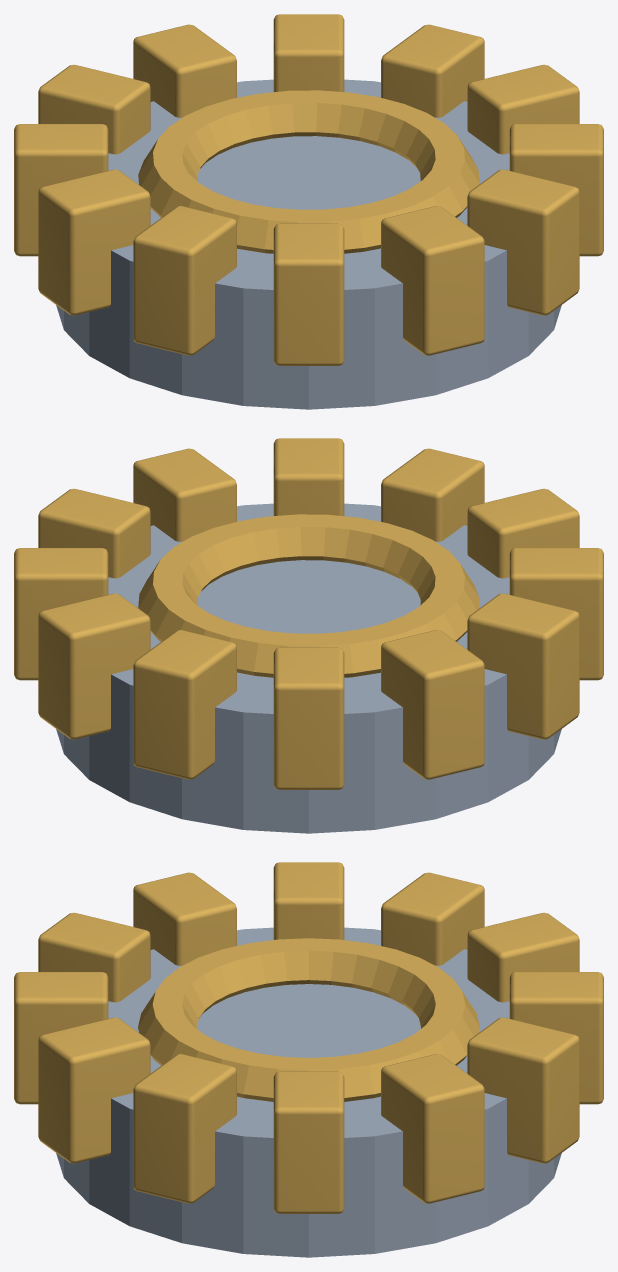
The model's file is switzerland-gear-ornament.glb.
3 renders of one model, top to bottom at view 1: azimuth 30°, elevation 25°; view 2: azimuth 150°, elevation 25°; view 3: azimuth 270°, elevation 25°, orthographic.
Visible parts, largest first — view 1: はぐるまの だい, まんなかの わ, はぐるまの は.007, はぐるまの は.009, はぐるまの は.006, はぐるまの は.010, はぐるまの は.008, はぐるまの は.005, はぐるまの は.011, はぐるまの は.001, はぐるまの は.003, はぐるまの は (+2 smaller); view 2: はぐるまの だい, まんなかの わ, はぐるまの は.003, はぐるまの は.005, はぐるまの は.002, はぐるまの は.006, はぐるまの は.004, はぐるまの は.001, はぐるまの は.007, はぐるまの は.011, はぐるまの は.009, はぐるまの は (+2 smaller); view 3: はぐるまの だい, まんなかの わ, はぐるまの は.001, はぐるまの は.011, はぐるまの は.002, はぐるまの は.010, はぐるまの は, はぐるまの は.003, はぐるまの は.009, はぐるまの は.005, はぐるまの は.007, はぐるまの は.004 (+2 smaller).
Part boxes in pixels (left/top/right/bottom): はぐるまの だい: left=56, top=79, right=561, bottom=409; まんなかの わ: left=138, top=90, right=479, bottom=253; はぐるまの は.007: left=133, top=206, right=236, bottom=355; はぐるまの は.009: left=381, top=206, right=484, bottom=355; はぐるまの は.006: left=38, top=169, right=150, bottom=315; はぐるまの は.010: left=467, top=169, right=579, bottom=315; はぐるまの は.008: left=273, top=223, right=344, bottom=365; はぐるまの は.005: left=14, top=124, right=108, bottom=256; はぐるまの は.011: left=509, top=124, right=603, bottom=256; はぐるまの は.001: left=381, top=24, right=484, bottom=117; はぐるまの は.003: left=133, top=24, right=236, bottom=117; はぐるまの は: left=467, top=64, right=579, bottom=154; はぐるまの だい: left=56, top=503, right=561, bottom=833; まんなかの わ: left=138, top=514, right=479, bottom=677; はぐるまの は.003: left=133, top=630, right=236, bottom=779; はぐるまの は.005: left=381, top=630, right=484, bottom=779; はぐるまの は.002: left=38, top=593, right=150, bottom=739; はぐるまの は.006: left=467, top=593, right=579, bottom=739; はぐるまの は.004: left=273, top=647, right=344, bottom=789; はぐるまの は.001: left=14, top=548, right=108, bottom=680; はぐるまの は.007: left=509, top=548, right=603, bottom=680; はぐるまの は.011: left=133, top=448, right=236, bottom=541; はぐるまの は.009: left=381, top=448, right=484, bottom=541; はぐるまの は: left=38, top=488, right=150, bottom=578; はぐるまの だい: left=56, top=927, right=561, bottom=1257; まんなかの わ: left=138, top=938, right=479, bottom=1101; はぐるまの は.001: left=381, top=1054, right=484, bottom=1203; はぐるまの は.011: left=133, top=1054, right=236, bottom=1203; はぐるまの は.002: left=467, top=1017, right=579, bottom=1163; はぐるまの は.010: left=38, top=1017, right=150, bottom=1163; はぐるまの は: left=273, top=1071, right=344, bottom=1213; はぐるまの は.003: left=509, top=972, right=603, bottom=1104; はぐるまの は.009: left=14, top=972, right=108, bottom=1104; はぐるまの は.005: left=381, top=872, right=484, bottom=965; はぐるまの は.007: left=133, top=872, right=236, bottom=965; はぐるまの は.004: left=467, top=912, right=579, bottom=1002.
Bounding box in the file's own units: 1 × 0.31 × 1.
